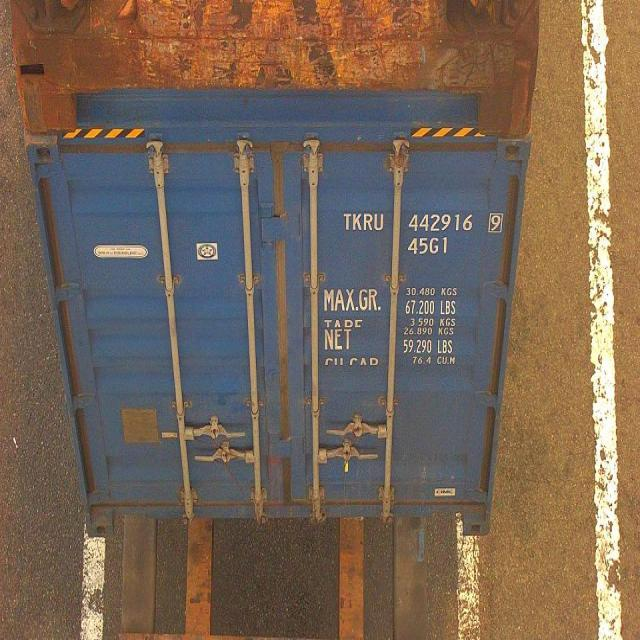ISO: (408, 236, 449, 257)
container_number: (348, 210, 496, 237)
